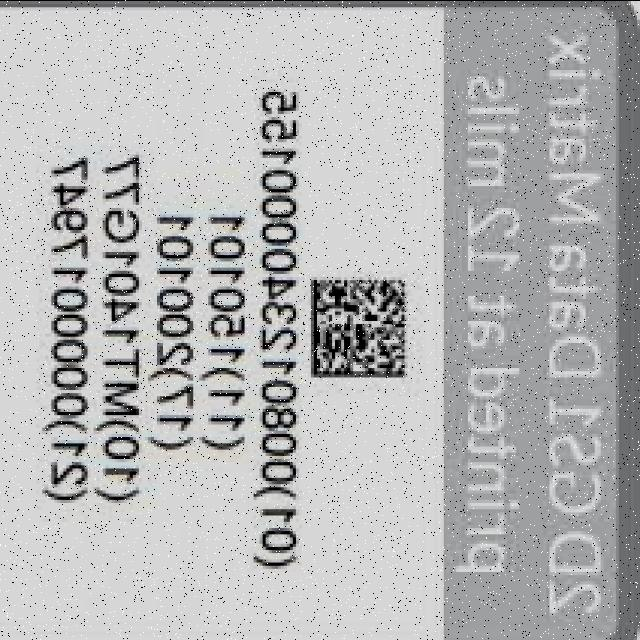datamatrix: (305, 270, 410, 383)
